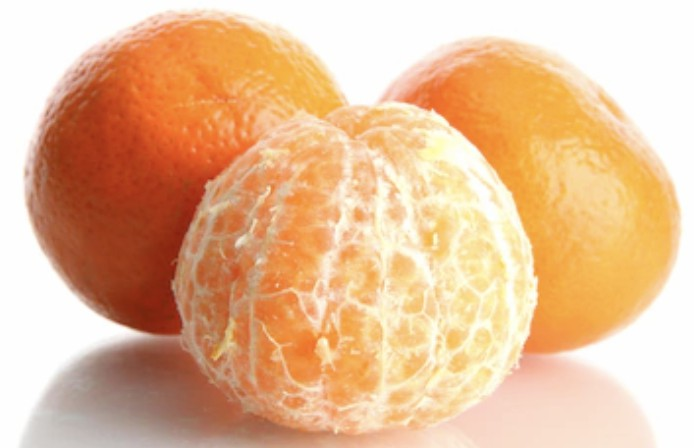fresh_orange: (26, 9, 354, 339), (368, 36, 679, 358)
